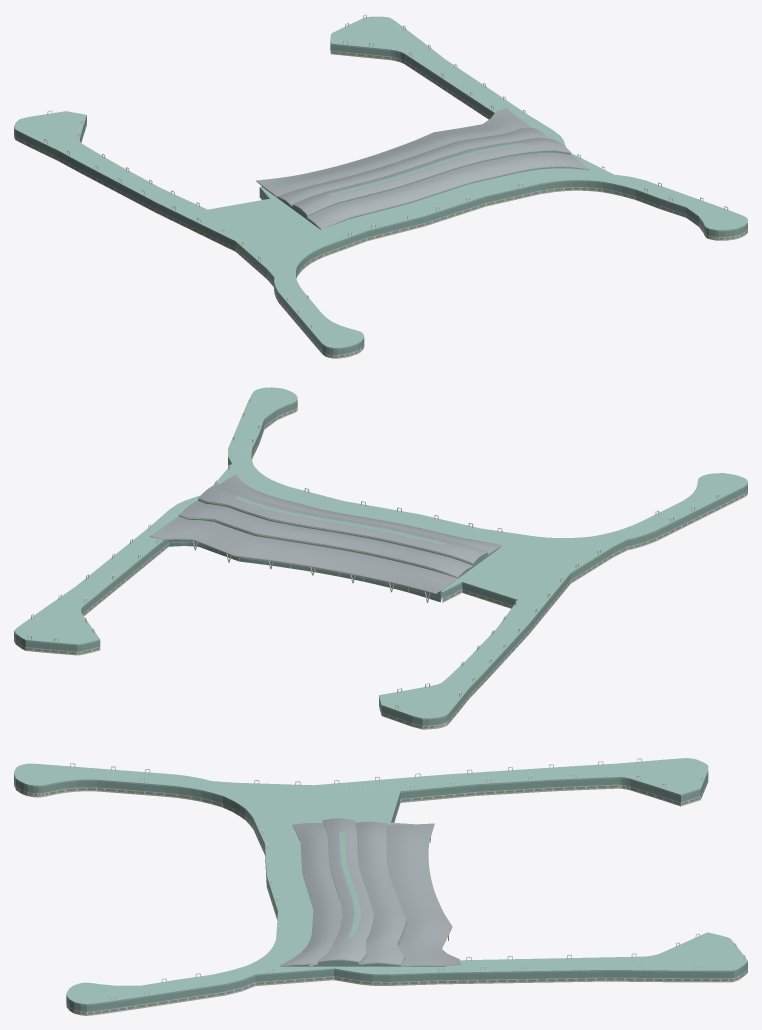
Rendered from incheon-airport-terminal-2.glb.
3 renders of one model, top to bottom at view 1: azimuth 30°, elevation 25°; view 2: azimuth 150°, elevation 25°; view 3: azimuth 270°, elevation 25°, orthographic. The views are drawn at different scales.
Parts seen in each view (by area): view 1: Incheon International Airport Terminal 2; view 2: Incheon International Airport Terminal 2; view 3: Incheon International Airport Terminal 2.
Part boxes in pixels (box(x1,y1,x2,y2)): Incheon International Airport Terminal 2: box(14, 14, 747, 358); Incheon International Airport Terminal 2: box(14, 387, 747, 729); Incheon International Airport Terminal 2: box(14, 758, 747, 1015).
Bounding box in the file's own units: 902 × 40.21 × 1137.
